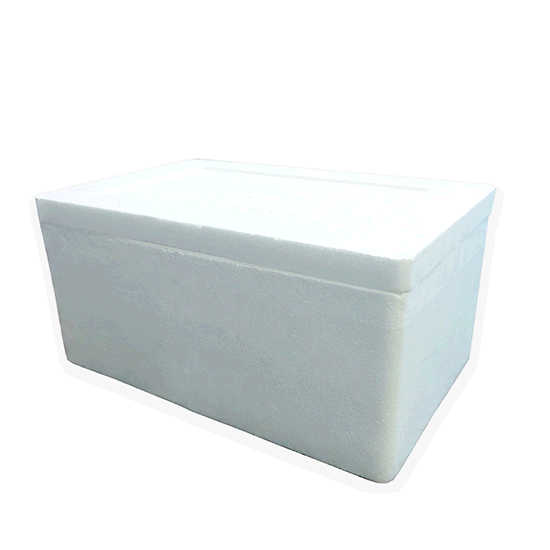Foam Box: (32, 148, 502, 493)
